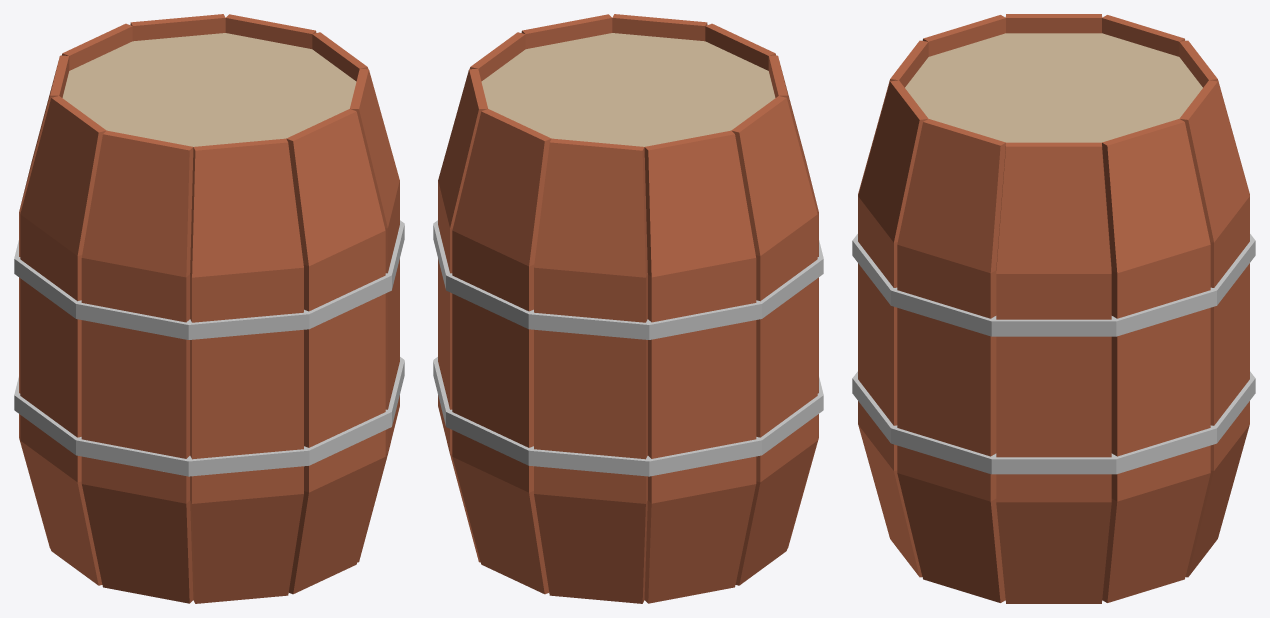
Rendered from Barrel1.fbx.
3 views of the same model, side by side, from view 1: azimuth 30°, elevation 25°; view 2: azimuth 150°, elevation 25°; view 3: azimuth 270°, elevation 25° (orthographic).
Visible parts, largest first — view 1: Cylinder; view 2: Cylinder; view 3: Cylinder.
Part boxes in pixels (<box>): Cylinder: <box>14,14,404,603</box>; Cylinder: <box>433,14,823,603</box>; Cylinder: <box>852,14,1255,603</box>.
Bounding box in the file's own units: 205 × 270 × 216.
